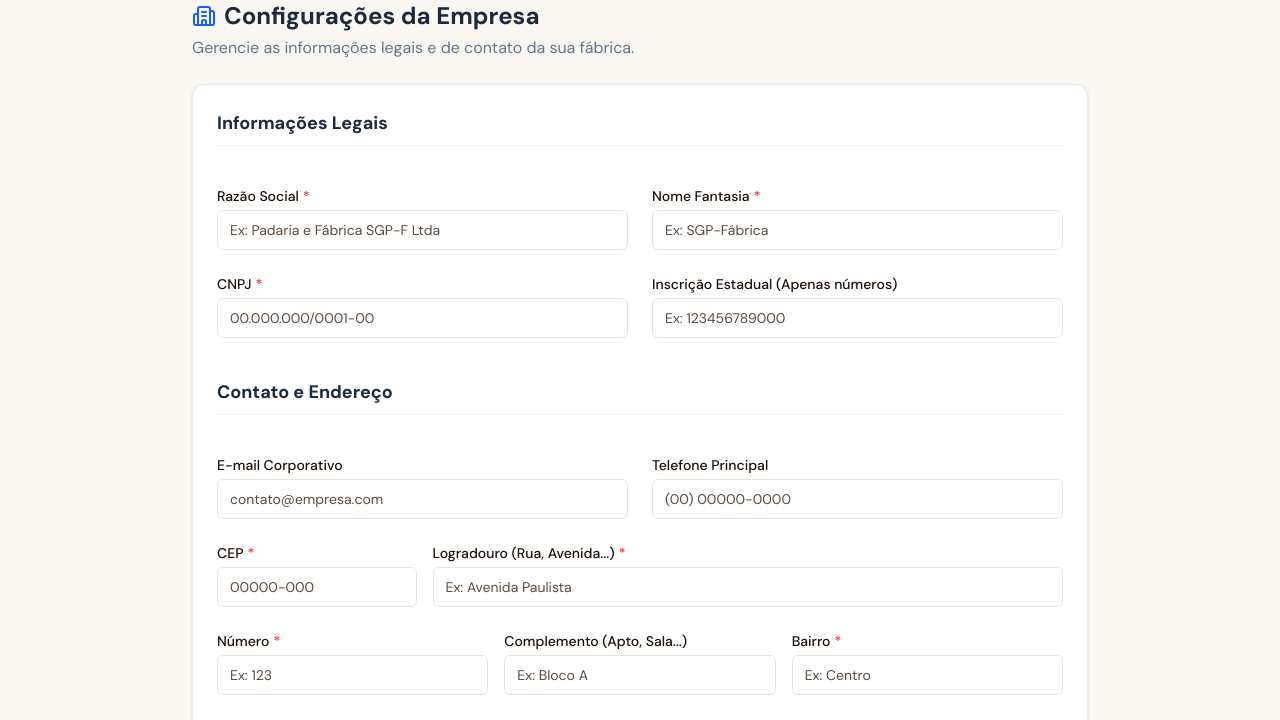
Scenario: ConfiguracoesEmpresa Component › performs ViaCEP lookup and fills address fields when CEP is typed
The image size is (1280, 720).
Type "12345678" into the field named "cep" at {"x": 317, "y": 587}, box [217,567,416,607]
(page scrolled)
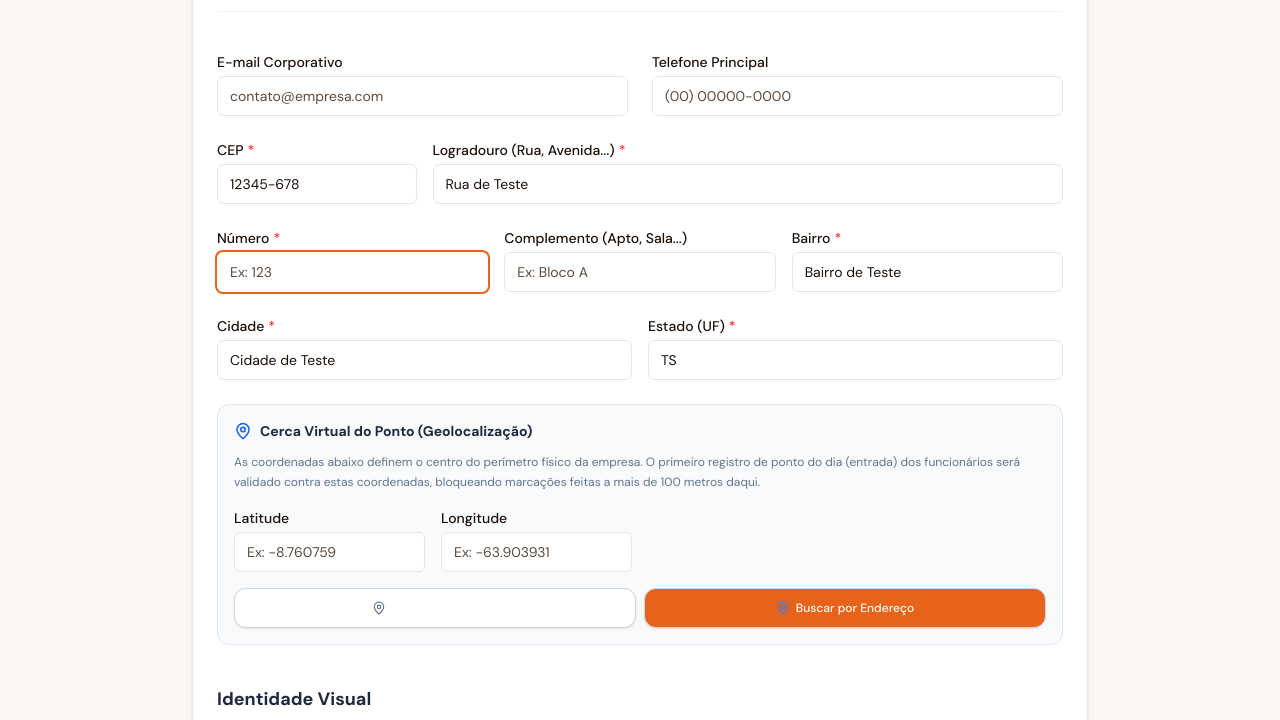
Expected: the field named "logradouro" below "Logradouro (Rua, Avenida...)" holds "Rua de Teste", [432,164,1063,204]
Expected: the field named "bairro" below "Bairro" holds "Bairro de Teste", [792,252,1063,292]
Expected: the field named "cidade" below "Cidade" holds "Cidade de Teste", [217,340,632,380]
